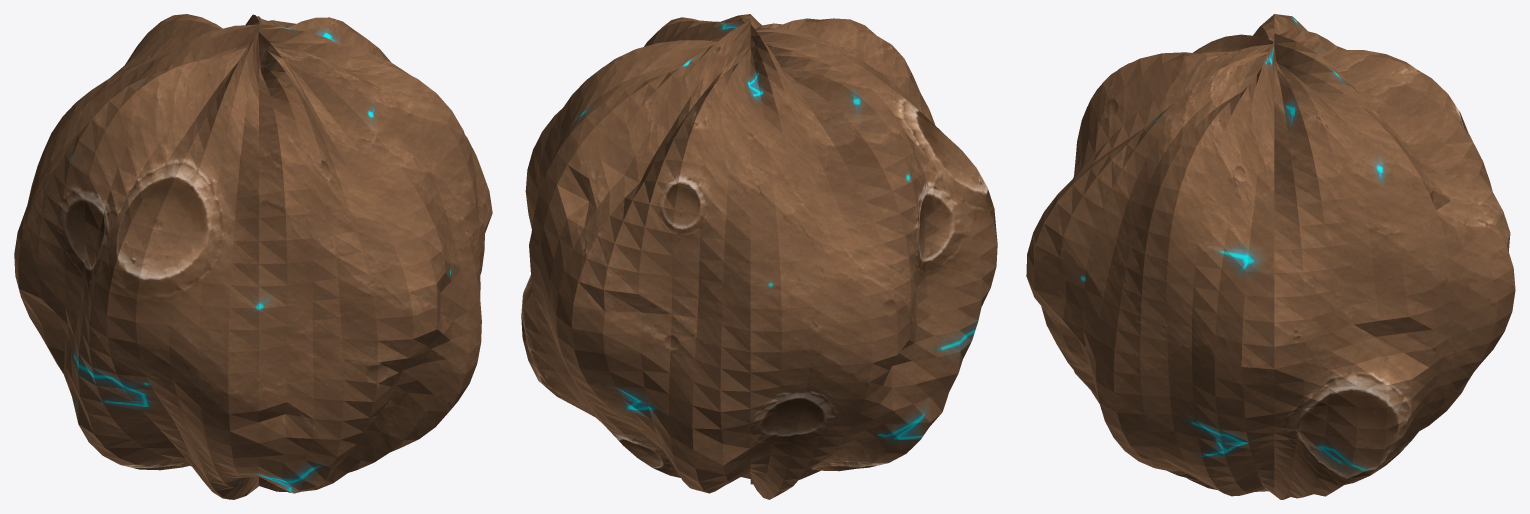
File: asteroide_pequeno.obj
3 renders of one model, left to right at view 1: azimuth 30°, elevation 25°; view 2: azimuth 150°, elevation 25°; view 3: azimuth 270°, elevation 25°, orthographic.
Visible parts, largest first — view 1: Asteroide_pequeno; view 2: Asteroide_pequeno; view 3: Asteroide_pequeno.
Part boxes in pixels (<box>): Asteroide_pequeno: <box>14,14,492,499</box>; Asteroide_pequeno: <box>521,14,997,499</box>; Asteroide_pequeno: <box>1026,14,1515,499</box>.
Size of the model in its own units: 2.12 by 2.23 by 2.15.
1 material, 1 textured.
